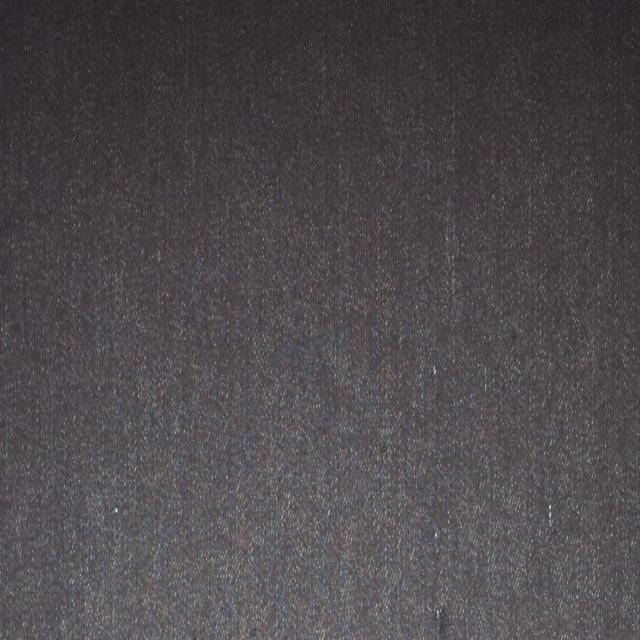Knot: (548, 504, 554, 527)
